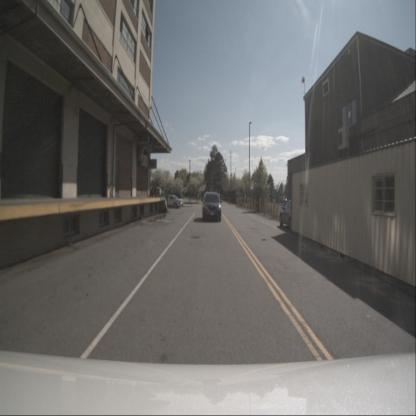vehicle-car: (279, 199, 304, 230), (202, 192, 221, 222), (160, 194, 184, 209)
